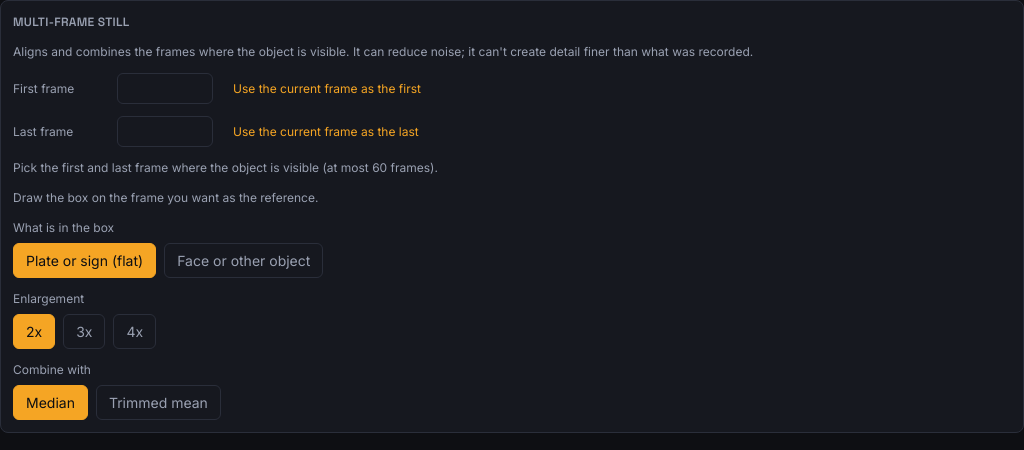
Test case: RoiFusionPanel › keeps a typed frame inside the video
Type "9999" into the number field labelled "Last frame" at coordinates (165, 132), box x1=117 y1=116 x2=213 y2=147
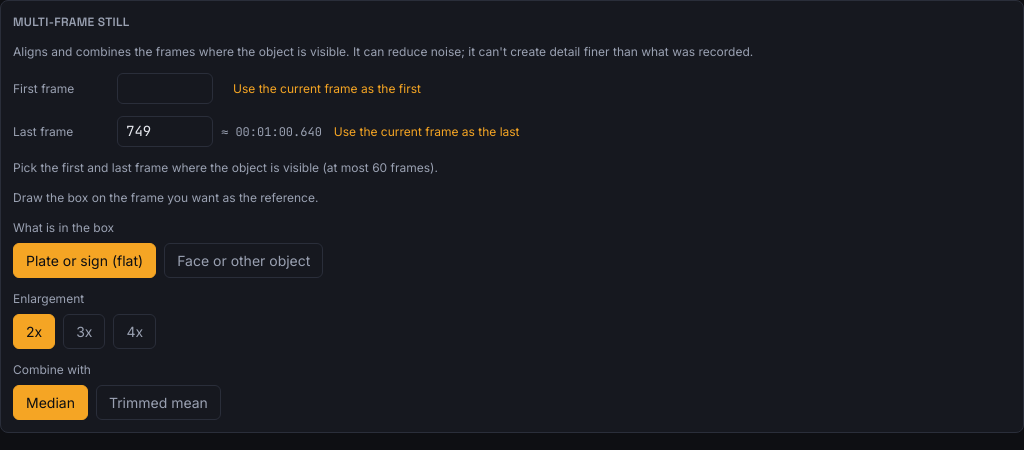
Result: the number field labelled "Last frame" holds "749" at x1=117 y1=116 x2=213 y2=147
